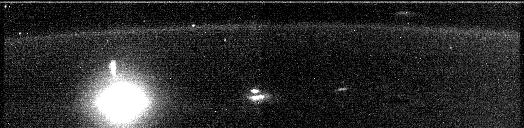positive: (105, 56, 120, 82)
